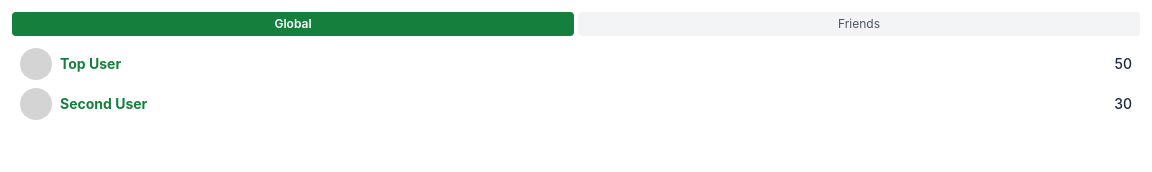
Test: CompactLeaderboard › should show empty state for friends with no followers
The image size is (1152, 172).
What coordinates should you click on to do the following:
click the button "Friends"
I would click on:
 (859, 24)
Its box is 578,12 -> 1140,36.
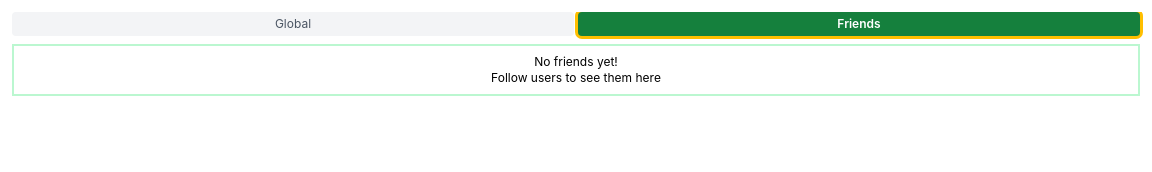
Expected: the text "No friends yet!Follow users to see them here" is shown, 12,44 -> 1140,96
